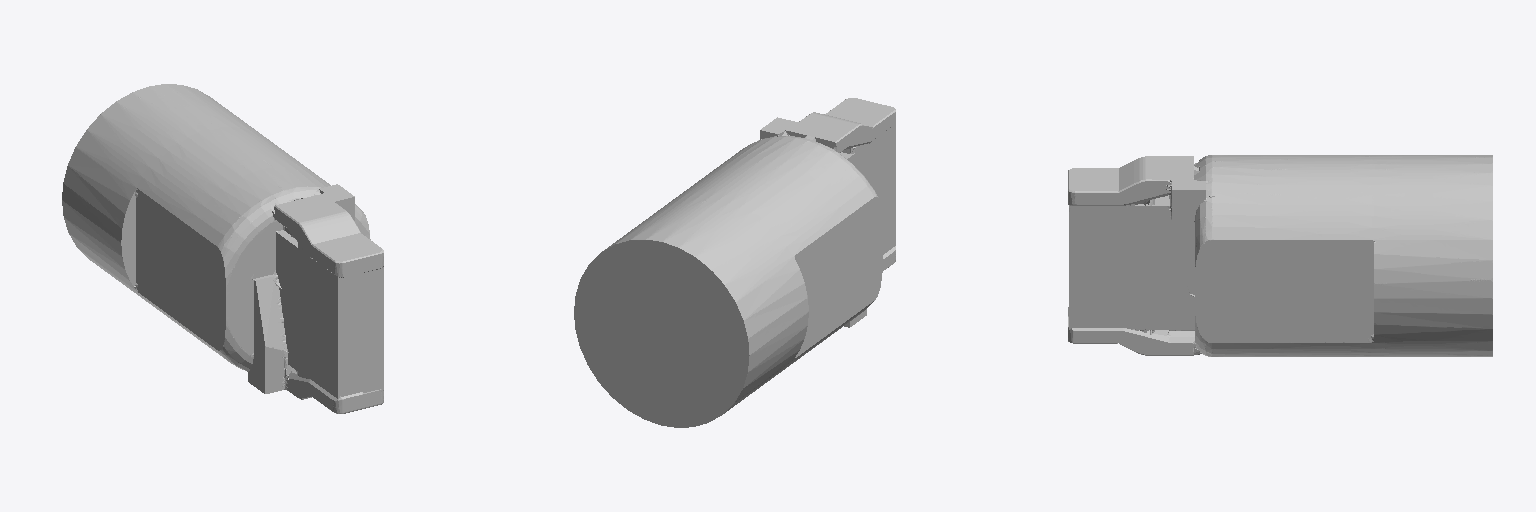
Rendered from gripper_enclosed_air_tight.obj.
3 views of the same model, side by side, from view 1: azimuth 30°, elevation 25°; view 2: azimuth 150°, elevation 25°; view 3: azimuth 270°, elevation 25° (orthographic).
Bounding box in the file's own units: 0.075 × 0.075 × 0.1572.